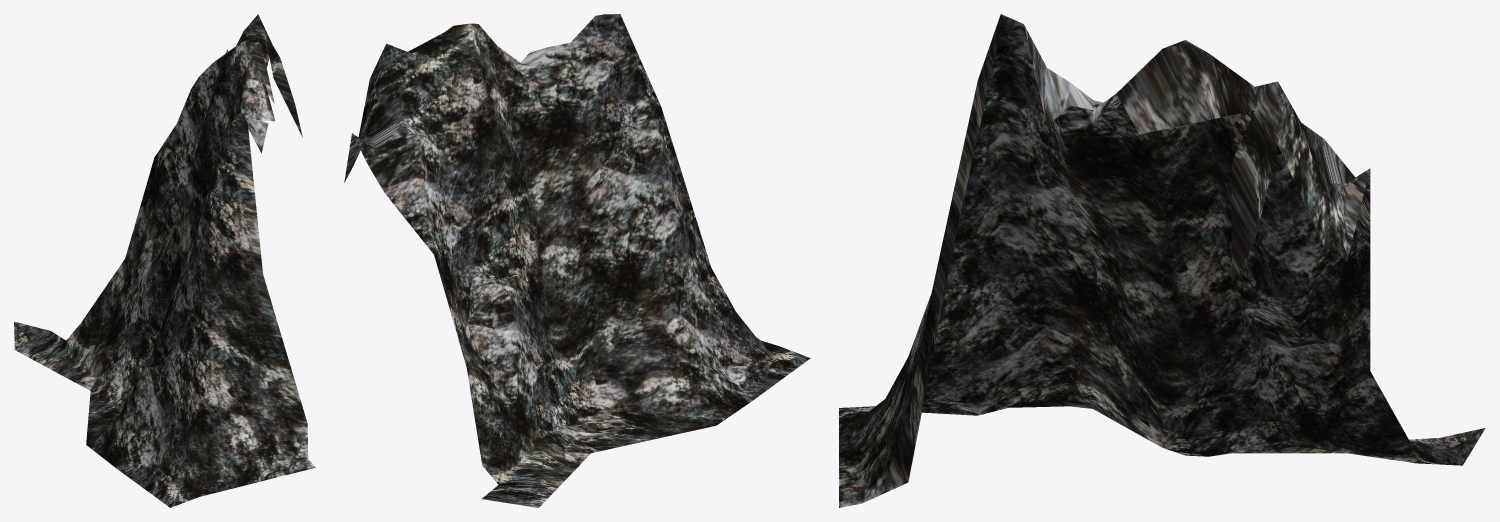
Rendered from OVERHILL_A_01_OBJECT09.fbx.
3 views of the same model, side by side, from view 1: azimuth 30°, elevation 25°; view 2: azimuth 150°, elevation 25°; view 3: azimuth 270°, elevation 25° (orthographic). The views are drawn at different scales.
Parts seen in each view (by area): view 1: OVERHILL_A_01_OBJECT09; view 2: OVERHILL_A_01_OBJECT09; view 3: OVERHILL_A_01_OBJECT09.
Boxes of the visible parts, x1,y1,x2,y2 form: OVERHILL_A_01_OBJECT09: (14,14,315,507); OVERHILL_A_01_OBJECT09: (344,14,810,507); OVERHILL_A_01_OBJECT09: (839,14,1485,507).
Size of the model in its own units: 246894 by 302177 by 349027.
1 material, 1 textured.
